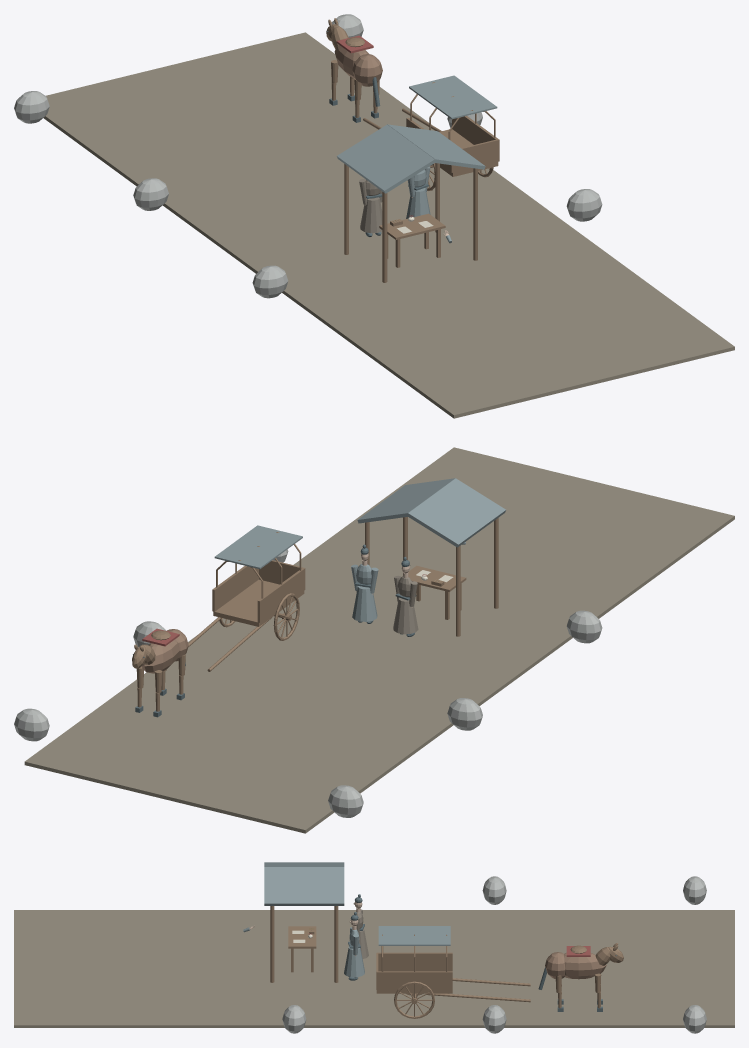
3 renders of one model, top to bottom at view 1: azimuth 30°, elevation 25°; view 2: azimuth 150°, elevation 25°; view 3: azimuth 270°, elevation 25°, orthographic. The views are drawn at different scales.
Parts seen in each view (by area): view 1: roadbed (×6), rock (×4), roof_left, canvas_roof, roof_right, tabletop, right_rail, hindquarters, rear_board, robe_skirt; view 2: roadbed (×6), rock (×4), roof_left, canvas_roof, roof_right, bed, robe_skirt (×2), left_rail, right_rail, barrel, tabletop, rear_board; view 3: roadbed (×6), roof_right, rock (×5), canvas_roof, left_rail, right_rail, barrel, post (×2), tabletop, robe_skirt, hindquarters, roof_left (+2 smaller).
Boxes of the visible parts, <box> form: roadbed (×6): <box>43,32,734,418</box>; rock (×4): <box>14,91,602,298</box>; roof_left: <box>337,124,435,193</box>; canvas_roof: <box>409,75,497,119</box>; roof_right: <box>387,124,485,169</box>; tabletop: <box>379,213,445,239</box>; right_rail: <box>452,116,499,161</box>; hindquarters: <box>352,54,382,86</box>; rear_board: <box>453,139,498,172</box>; robe_skirt: <box>360,197,382,233</box>; roadbed (×6): <box>24,447,734,833</box>; rock (×4): <box>14,610,602,817</box>; roof_left: <box>408,478,505,547</box>; canvas_roof: <box>214,525,302,569</box>; roof_right: <box>357,478,455,523</box>; bed: <box>213,579,304,626</box>; robe_skirt (×2): <box>352,586,418,634</box>; left_rail: <box>257,567,305,622</box>; right_rail: <box>212,565,258,611</box>; barrel: <box>141,639,179,673</box>; tabletop: <box>401,565,466,591</box>; rear_board: <box>259,560,303,584</box>; roadbed (×6): <box>14,910,734,1027</box>; roof_right: <box>264,867,344,905</box>; rock (×5): <box>282,876,706,1033</box>; canvas_roof: <box>378,926,450,945</box>; left_rail: <box>377,952,452,971</box>; right_rail: <box>376,971,452,990</box>; barrel: <box>564,953,606,979</box>; post (×2): <box>270,906,338,982</box>; tabletop: <box>288,926,316,948</box>; robe_skirt: <box>344,946,364,977</box>; hindquarters: <box>545,952,564,978</box>; roof_left: <box>264,862,344,866</box>.
Bounding box in the file's own units: 8.4 × 2.74 × 18.
